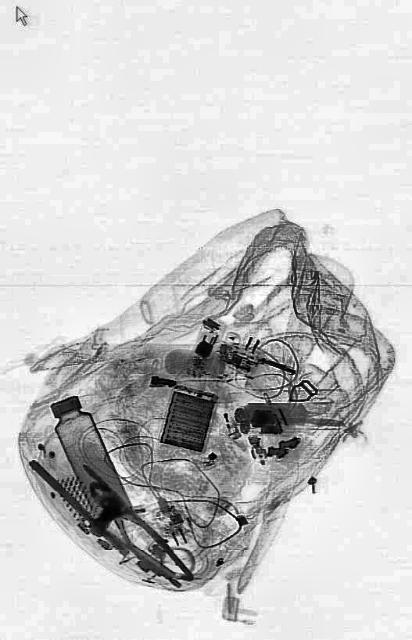Pliers: (81, 466, 195, 604)
